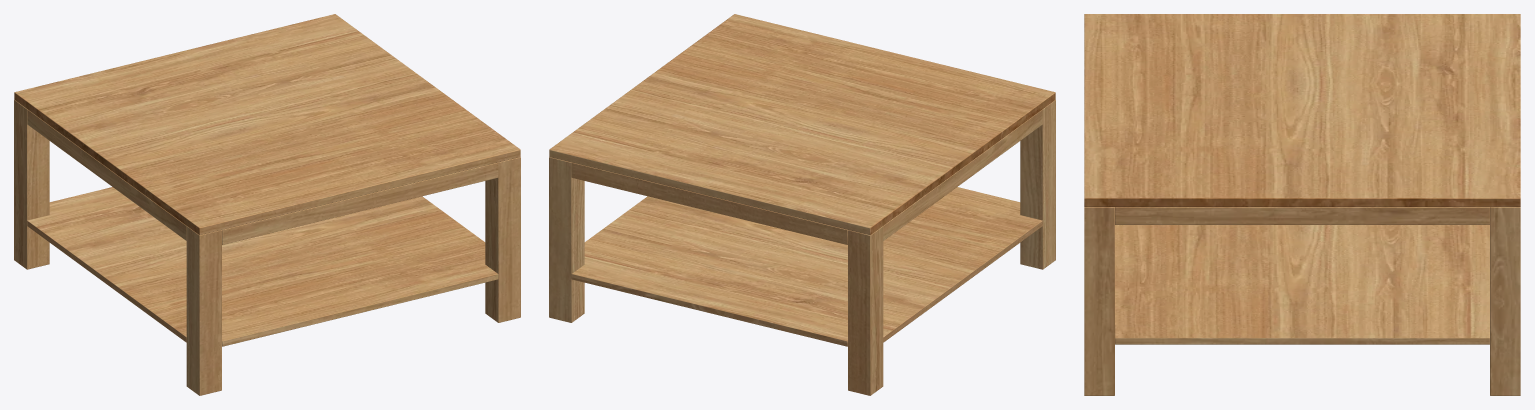
The model's file is abo-B07K7K9224.glb.
3 renders of one model, left to right at view 1: azimuth 30°, elevation 25°; view 2: azimuth 150°, elevation 25°; view 3: azimuth 270°, elevation 25°, orthographic. The views are drawn at different scales.
Size of the model in its own units: 0.9 by 0.45 by 0.9.
1 material, 1 textured.
